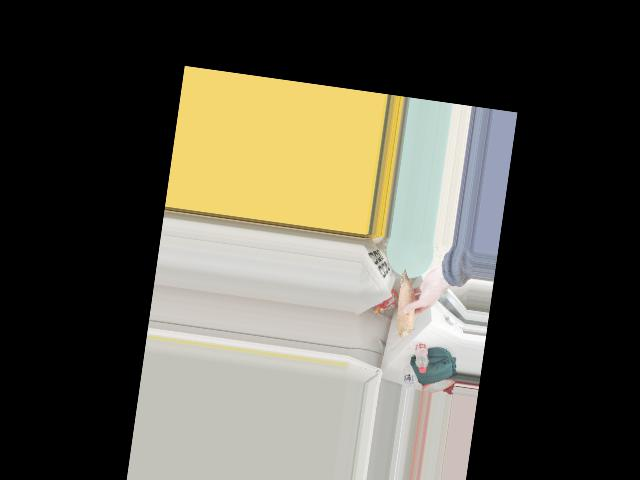sweet_potato: (394, 272, 421, 338)
